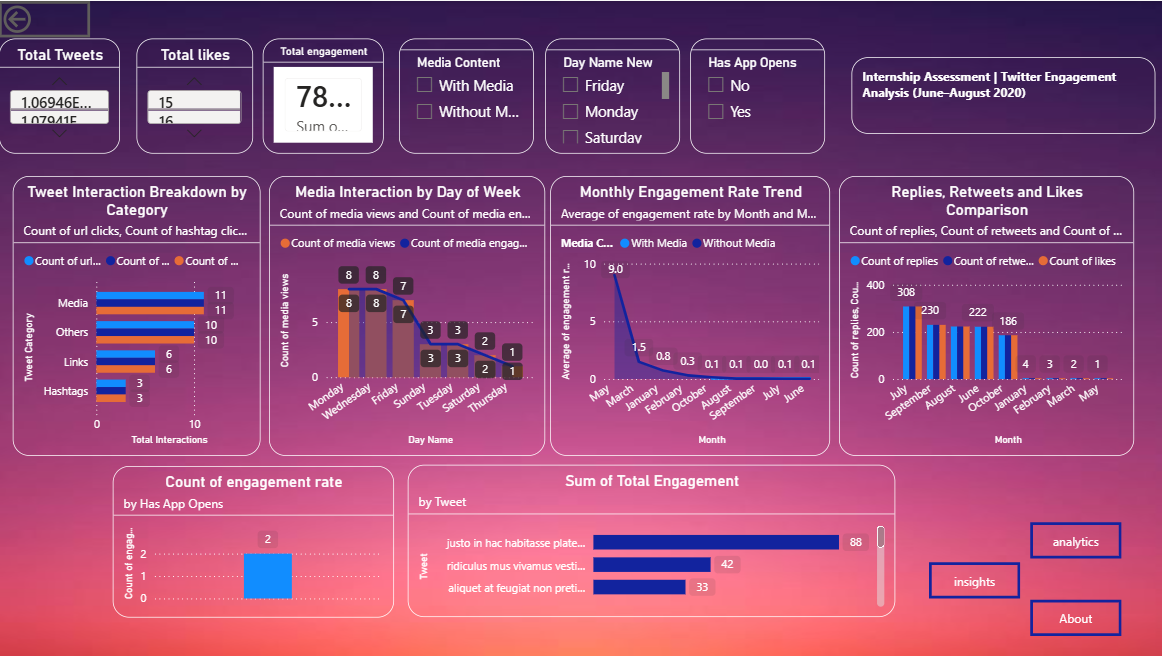

This screenshot's page, from the dashboard's own definition file:
{"tool":"powerbi","page":{"name":"Page 1","canvas":[1280,720],"ordinal":0},"visuals":[{"type":"clusteredBarChart","title":"Tweet Interaction Breakdown by Category","fields":{"Category":["SocialMedia.Tweet Category"],"Y":["CountNonNull(SocialMedia.url clicks)","CountNonNull(SocialMedia.hashtag clicks)","CountNonNull(SocialMedia.user profile clicks)"]},"box":[17.8,227.8,271.7,307.4],"z":0},{"type":"actionButton","box":[0,0,100,40],"z":1000},{"type":"clusteredColumnChart","fields":{"Category":["SocialMedia.Has App Opens"],"Y":["CountNonNull(SocialMedia.engagement rate)"]},"box":[17.8,554.4,308.7,166],"z":2000},{"type":"lineClusteredColumnComboChart","title":"Media Interaction by Day of Week","fields":{"Category":["SocialMedia.Day Name"],"Y":["CountNonNull(SocialMedia.media views)"],"Y2":["CountNonNull(SocialMedia.media engagements)"]},"box":[299.1,227.8,303.3,307.4],"z":3000},{"type":"clusteredColumnChart","title":"Replies, Retweets and Likes Comparison","fields":{"Y":["CountNonNull(SocialMedia.replies)","CountNonNull(SocialMedia.retweets)","CountNonNull(SocialMedia.likes)"],"Category":["SocialMedia.Month"]},"box":[935.9,227.8,323.8,307.4],"z":4000},{"type":"lineChart","title":"Monthly Engagement Rate Trend","fields":{"Category":["SocialMedia.Month"],"Series":["SocialMedia.Media Content"],"Y":["Avg(SocialMedia.engagement rate)"]},"box":[616.1,227.8,307.4,307.4],"z":5000},{"type":"clusteredBarChart","fields":{"Category":["SocialMedia.Tweet"],"Y":["Sum(SocialMedia.Total Engagement)"]},"box":[332.1,553,535.2,167.4],"z":6000},{"type":"textbox","box":[935.9,61.7,333.4,83.7],"z":7000},{"type":"cardVisual","title":"Total Tweets","fields":{"Rows":["SocialMedia.id"]},"box":[17.8,91.9,133.1,126.2],"z":8000},{"type":"cardVisual","title":"Total likes","fields":{"Rows":["SocialMedia.likes"]},"box":[161.9,91.9,127.6,126.2],"z":8001},{"type":"cardVisual","title":"Total engagement","fields":{"Data":["Sum(SocialMedia.engagement rate)"]},"box":[299.1,91.9,133.1,126.2],"z":8002},{"type":"slicer","fields":{"Values":["SocialMedia.Media Content"]},"box":[441.9,91.9,148.2,126.2],"z":8003},{"type":"slicer","fields":{"Values":["SocialMedia.Day Name New"]},"box":[599.7,91.9,148.2,126.2],"z":8004},{"type":"slicer","fields":{"Values":["SocialMedia.Has App Opens"]},"box":[757.5,91.9,148.2,126.2],"z":8005},{"type":"actionButton","box":[0,0,100,40],"z":8006},{"type":"actionButton","box":[1132.1,572.2,100.2,39.8],"z":8007},{"type":"actionButton","box":[1020.9,616.1,100.2,39.8],"z":8008},{"type":"actionButton","box":[1132.1,657.3,100.2,39.8],"z":8009}]}

Visuals, with their boxes in screenshot pixels (x1, y1, x2, y2), scaled from the page's 1280x720 canvas onto the 1162x656 screenshot:
"Tweet Interaction Breakdown by Category" clusteredBarChart: rect(16, 208, 263, 488)
actionButton: rect(0, 0, 91, 36)
clusteredColumnChart - SocialMedia.Has App Opens x CountNonNull(SocialMedia.engagement rate): rect(16, 505, 296, 655)
"Media Interaction by Day of Week" lineClusteredColumnComboChart: rect(272, 208, 547, 488)
"Replies, Retweets and Likes Comparison" clusteredColumnChart: rect(850, 208, 1144, 488)
"Monthly Engagement Rate Trend" lineChart: rect(559, 208, 838, 488)
clusteredBarChart - SocialMedia.Tweet x Sum(SocialMedia.Total Engagement): rect(301, 504, 787, 655)
textbox: rect(850, 56, 1152, 132)
"Total Tweets" cardVisual: rect(16, 84, 137, 199)
"Total likes" cardVisual: rect(147, 84, 263, 199)
"Total engagement" cardVisual: rect(272, 84, 392, 199)
slicer - SocialMedia.Media Content: rect(401, 84, 536, 199)
slicer - SocialMedia.Day Name New: rect(544, 84, 679, 199)
slicer - SocialMedia.Has App Opens: rect(688, 84, 822, 199)
actionButton: rect(0, 0, 91, 36)
actionButton: rect(1028, 521, 1119, 558)
actionButton: rect(927, 561, 1018, 598)
actionButton: rect(1028, 599, 1119, 635)
